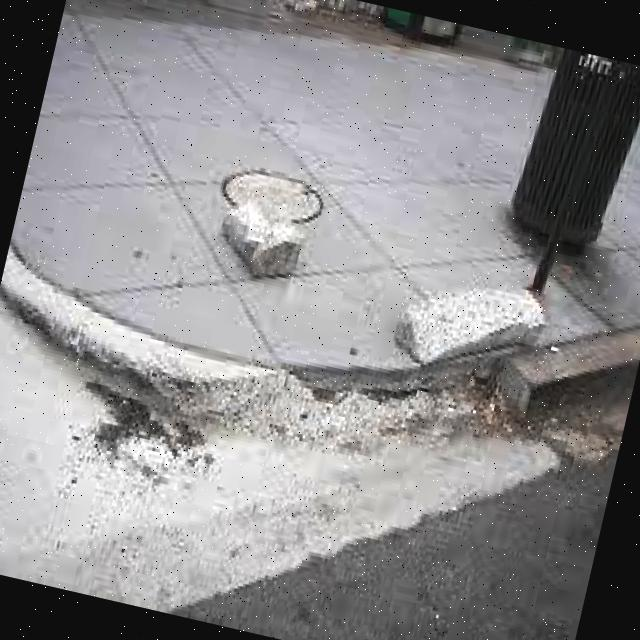curb: (69, 301, 393, 446), (486, 329, 640, 436)
